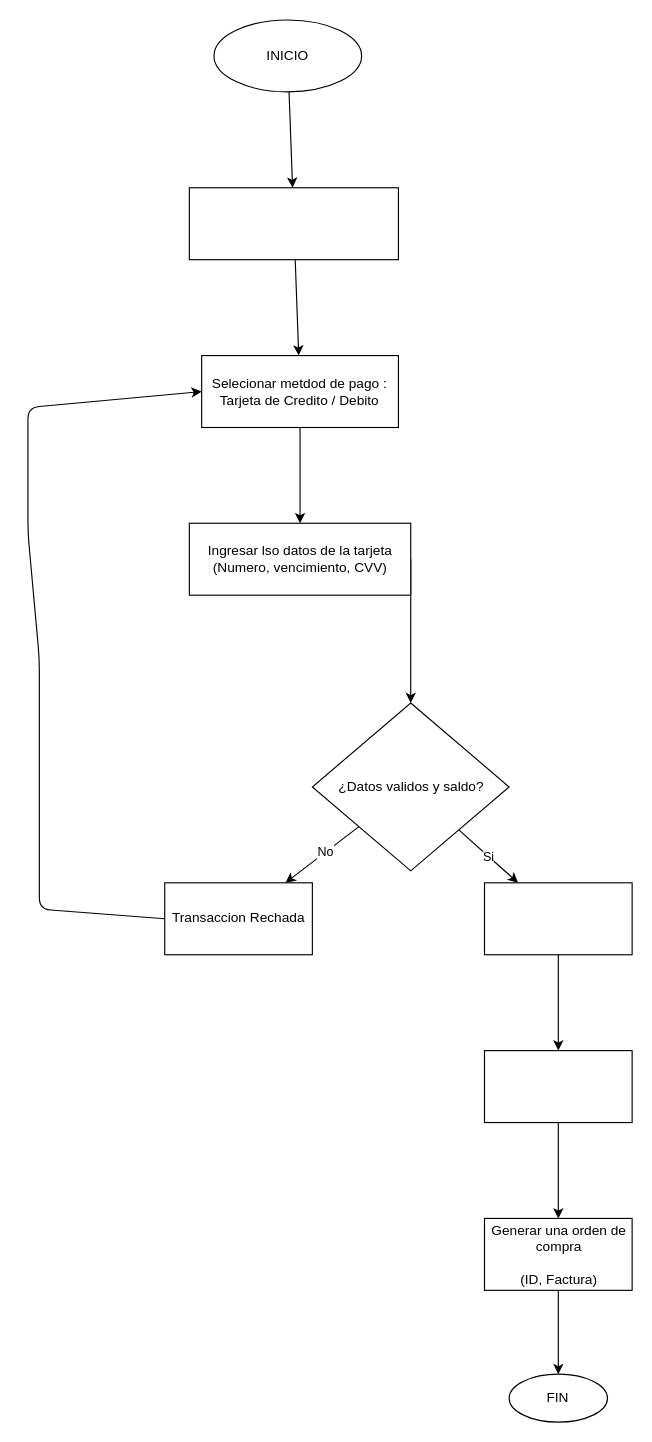
The diagram is 652 pixels wide and 1442 high, and some of its shapes have lost their labels. The shapes that lost their labels are listed below. From the top down, each one's centre as x and y in pixels, then its label:
At point (293, 223): "Cargar el resumen del carrtio de compras (Con el total a pagar)".
At point (557, 918): "Procesar Cobro".
At point (557, 1086): "Actualizar el inventario de productos".
